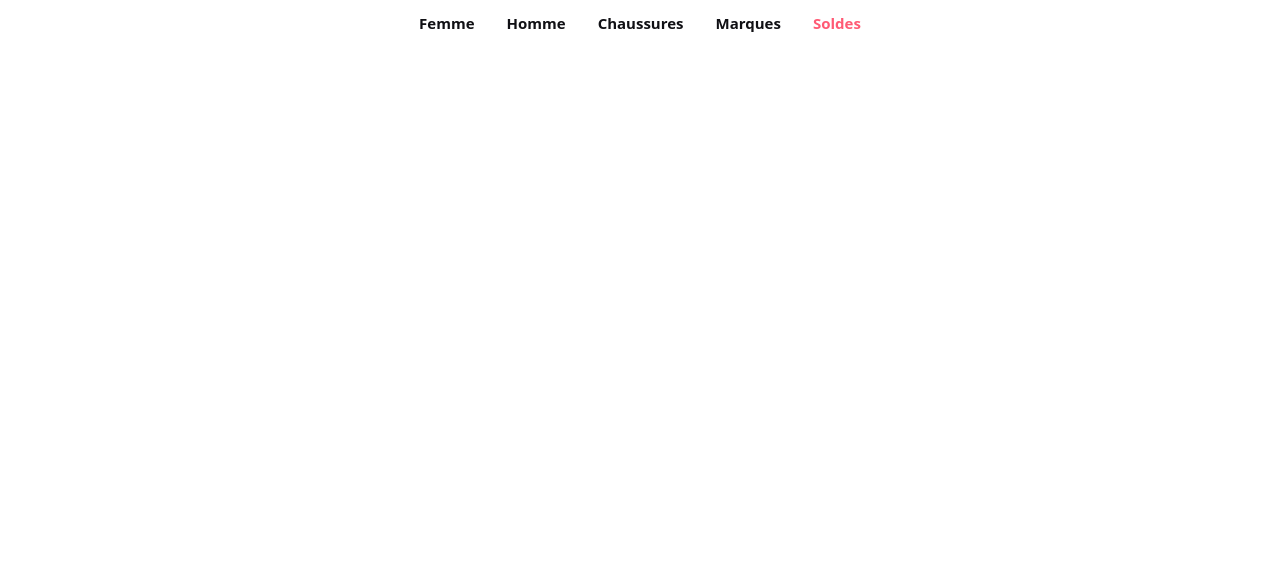
Test: méga-menu — catalogue du site › montre les marques et les nombres du catalogue fourni
The width and height of the screenshot is (1280, 561).
Hover over the link "Marques" at (748, 23), box [716, 12, 781, 34]
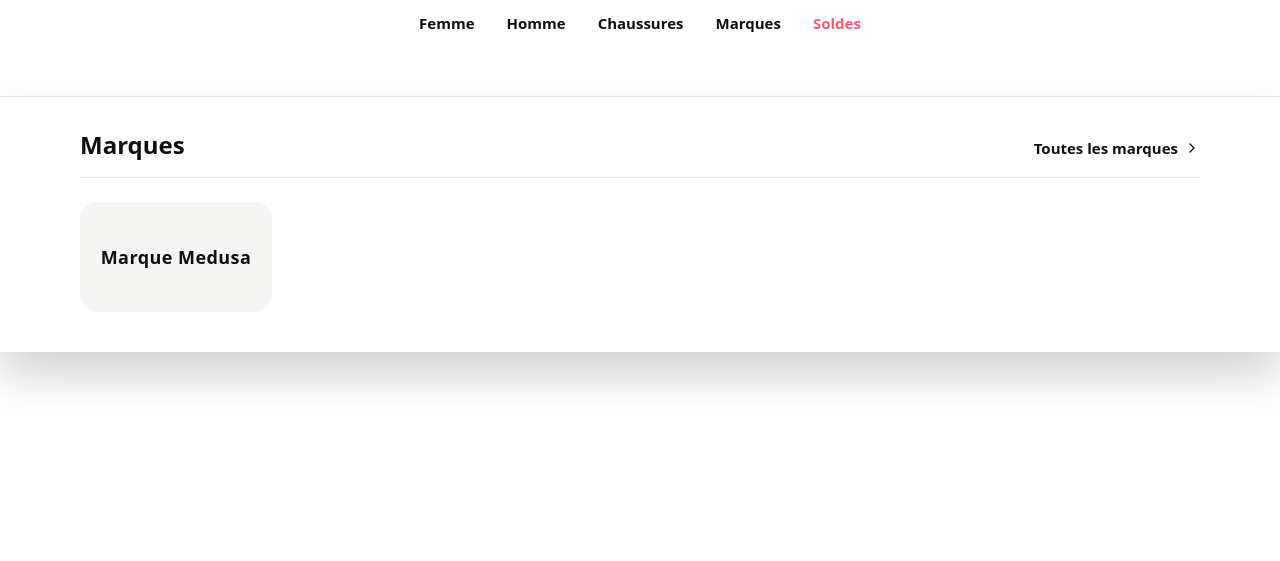
Hover over the link "Homme" at (536, 23), box [506, 12, 566, 34]
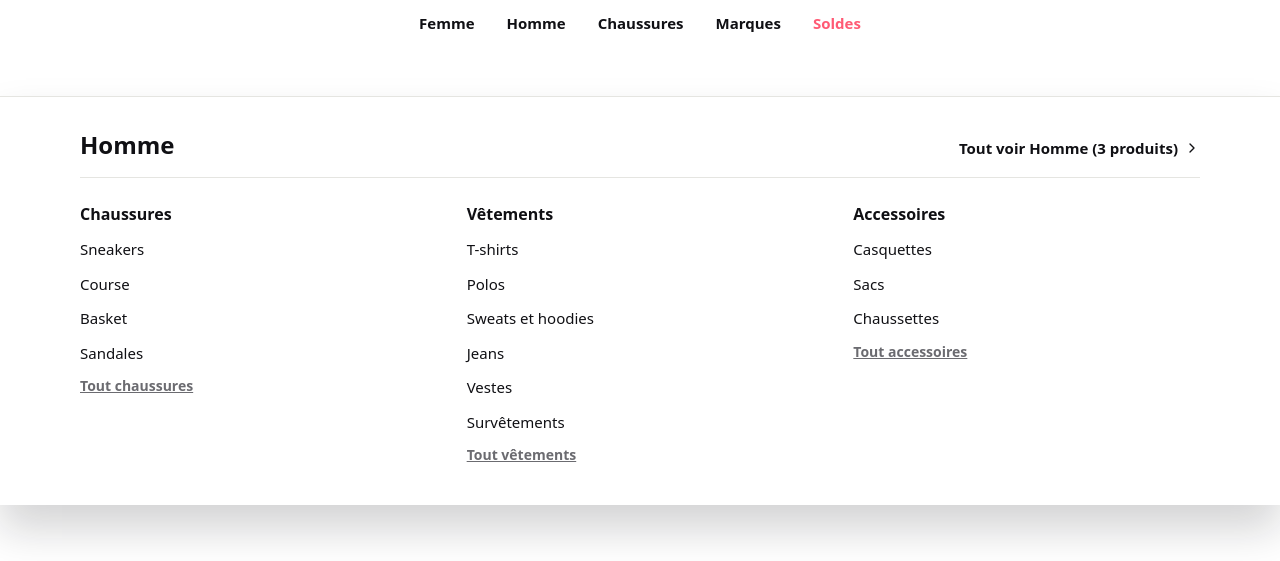
Result: the link "Tout voir Homme (3 produits)" is shown at [959, 137, 1200, 160]
